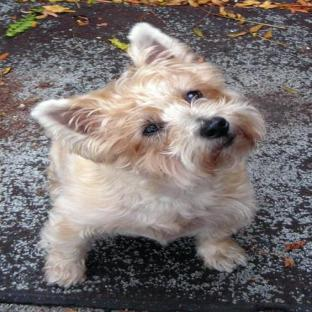Animal: (31, 22, 262, 287)
